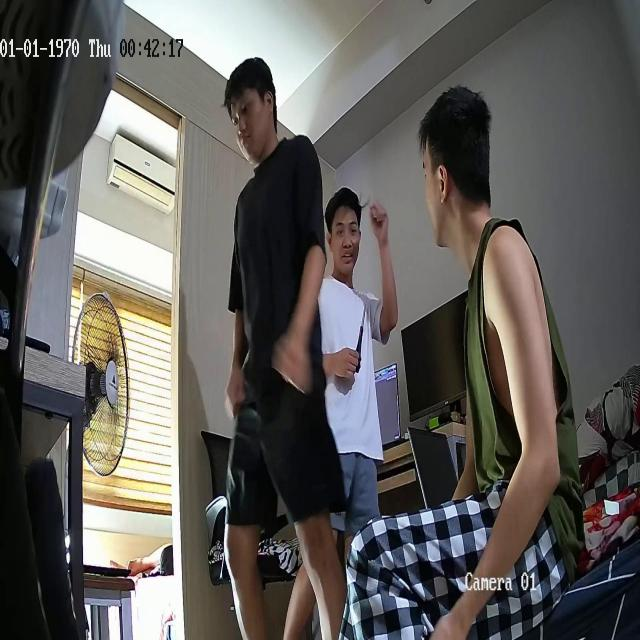scissor: (355, 304, 365, 374)
